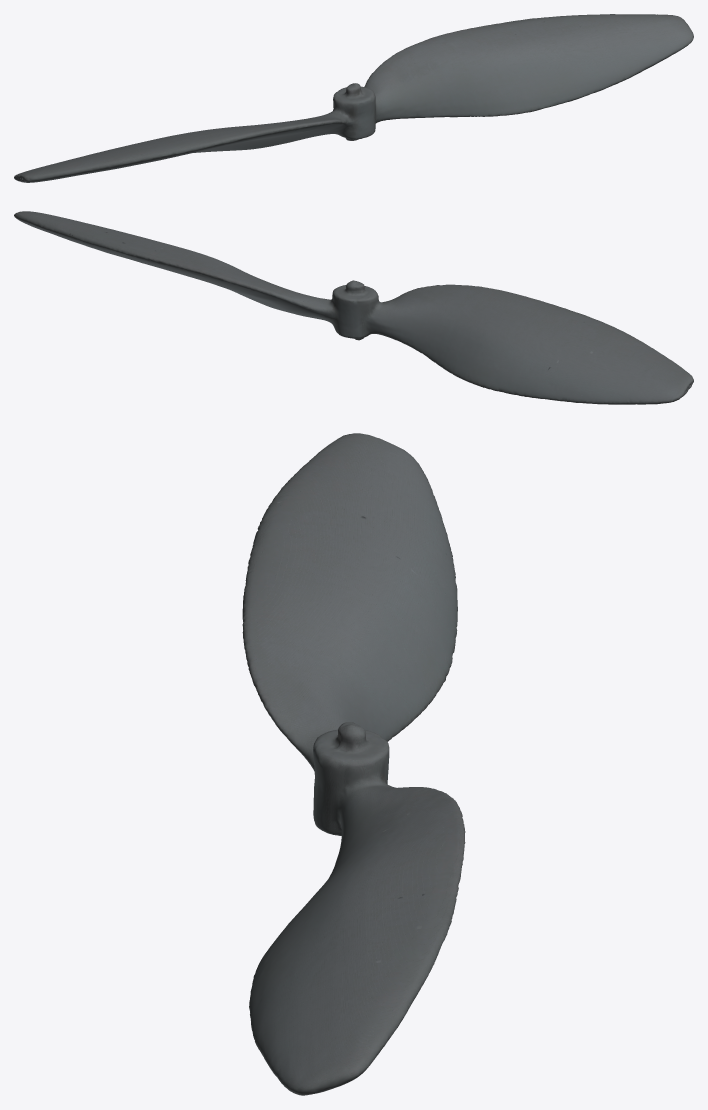
The model's file is Propeller_5045.glb.
3 views of the same model, one above another, from view 1: azimuth 30°, elevation 25°; view 2: azimuth 150°, elevation 25°; view 3: azimuth 270°, elevation 25° (orthographic). The views are drawn at different scales.
Parts seen in each view (by area): view 1: Mesh_0; view 2: Mesh_0; view 3: Mesh_0.
Boxes of the visible parts, bbox=[...] form: Mesh_0: bbox=[14, 14, 693, 182]; Mesh_0: bbox=[14, 211, 693, 404]; Mesh_0: bbox=[242, 433, 465, 1095].
Size of the model in its own units: 2 by 0.1652 by 0.2934.
1 material, 1 textured.
